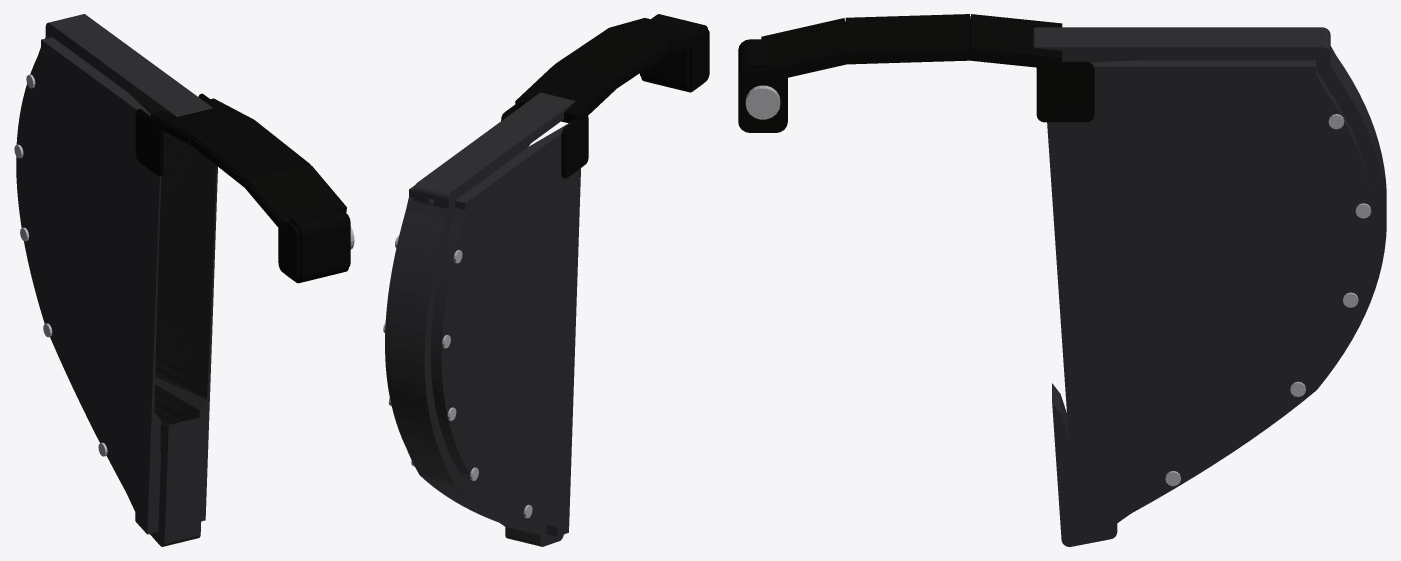
The model's file is capa_machadinha.glb.
3 views of the same model, side by side, from view 1: azimuth 30°, elevation 25°; view 2: azimuth 150°, elevation 25°; view 3: azimuth 270°, elevation 25° (orthographic). The views are drawn at different scales.
Parts seen in each view (by area): view 1: capa_machadinha_polimero, capa_machadinha_nylon, capa_machadinha_aco_inox; view 2: capa_machadinha_polimero, capa_machadinha_nylon, capa_machadinha_aco_inox; view 3: capa_machadinha_polimero, capa_machadinha_nylon, capa_machadinha_aco_inox.
Boxes of the visible parts, left/top/right/bottom form: capa_machadinha_polimero: left=16, top=14, right=217, bottom=546; capa_machadinha_nylon: left=135, top=93, right=350, bottom=283; capa_machadinha_aco_inox: left=14, top=74, right=354, bottom=456; capa_machadinha_polimero: left=385, top=92, right=580, bottom=546; capa_machadinha_nylon: left=501, top=14, right=709, bottom=178; capa_machadinha_aco_inox: left=383, top=235, right=532, bottom=518; capa_machadinha_polimero: left=1033, top=27, right=1386, bottom=546; capa_machadinha_nylon: left=738, top=14, right=1094, bottom=132; capa_machadinha_aco_inox: left=745, top=85, right=1371, bottom=486.
Bounding box in the file's own units: 0.0208 × 0.1346 × 0.1565.
3 materials, 1 textured.
